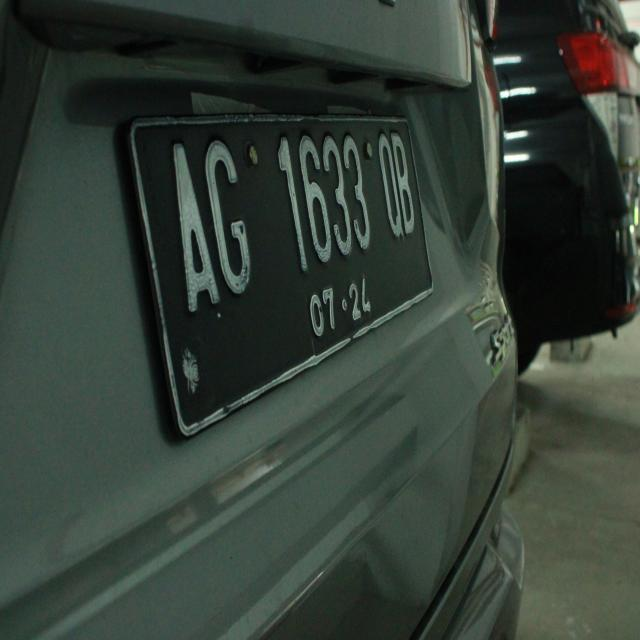1: (268, 126, 318, 286)
3: (323, 126, 358, 259), (342, 118, 374, 254)
6: (296, 122, 340, 268)
A: (155, 128, 230, 322)
B: (385, 120, 422, 248)
G: (198, 127, 262, 309)
Q: (374, 125, 408, 245)
